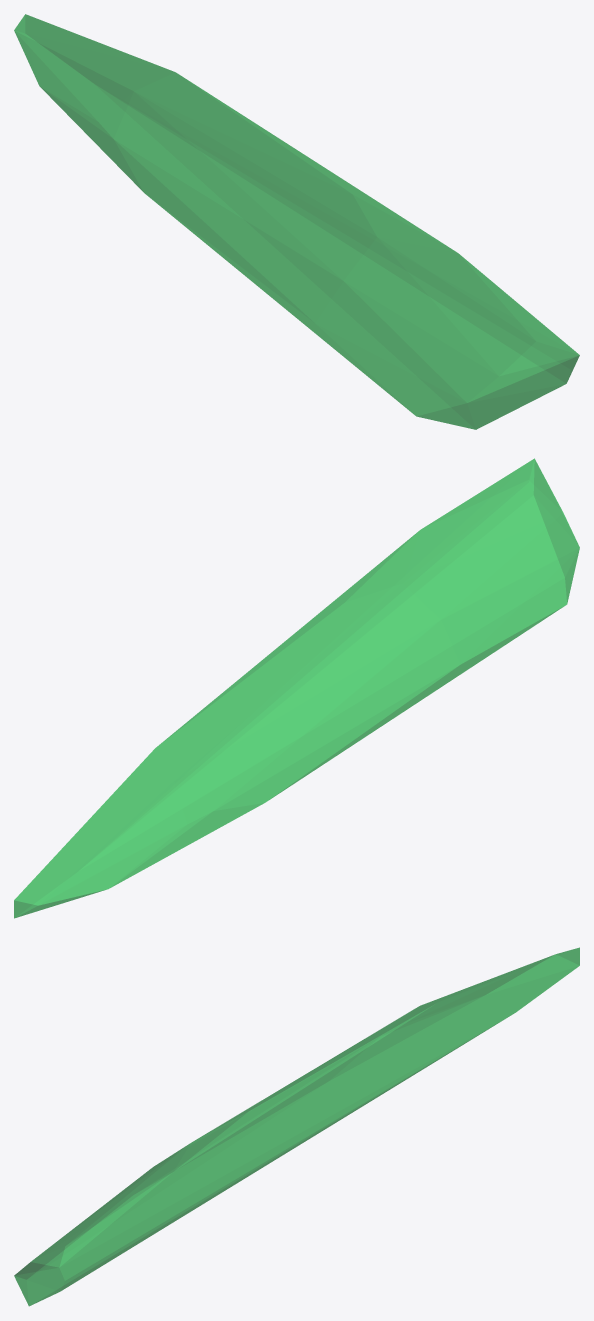
3 views of the same model, one above another, from view 1: azimuth 30°, elevation 25°; view 2: azimuth 150°, elevation 25°; view 3: azimuth 330°, elevation 25° (orthographic). The views are drawn at different scales.
Visible parts, largest first — view 1: Shape_IndexedFaceSet.001_Shape_IndexedFaceSet.1966; view 2: Shape_IndexedFaceSet.001_Shape_IndexedFaceSet.1966; view 3: Shape_IndexedFaceSet.001_Shape_IndexedFaceSet.1966.
Part boxes in pixels (box(x1,y1,x2,y2)): Shape_IndexedFaceSet.001_Shape_IndexedFaceSet.1966: box(14, 14, 579, 429); Shape_IndexedFaceSet.001_Shape_IndexedFaceSet.1966: box(14, 458, 579, 918); Shape_IndexedFaceSet.001_Shape_IndexedFaceSet.1966: box(14, 947, 579, 1306).
Size of the model in its own units: 0.0851 by 0.0798 by 0.8243.
